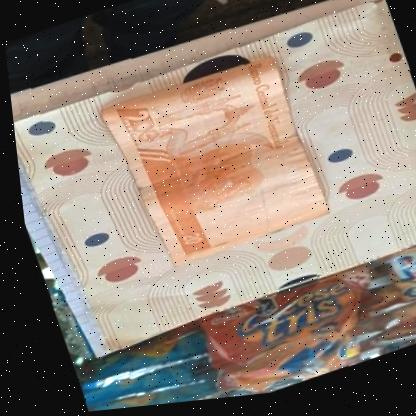twenty-back-vef: (92, 53, 329, 280)
